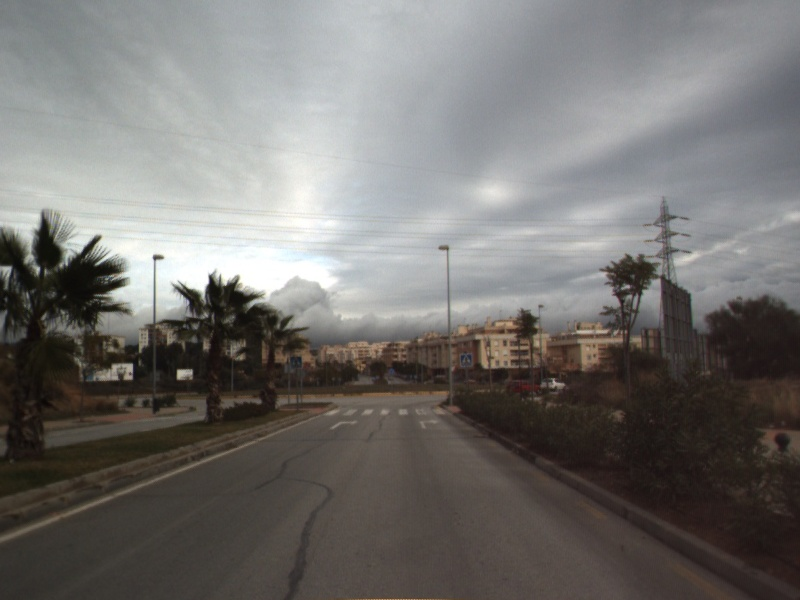RIGHT: (328, 417, 360, 431), (418, 416, 441, 430)
